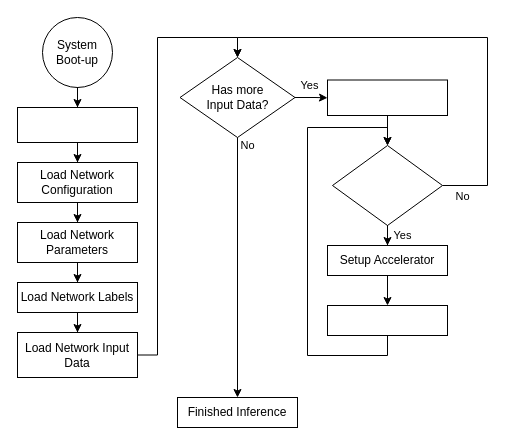
Some shapes in this 513 by 445 pixel diagram are drawn without their labels. The centre of each missing label's shape, as x and y in pixels:
Has more Accelerators to run?: the point at 387,185
Initialize Accelerators: the point at 77,124
Run Accelerator: the point at 387,320
Schedule Accelerators: the point at 387,97
